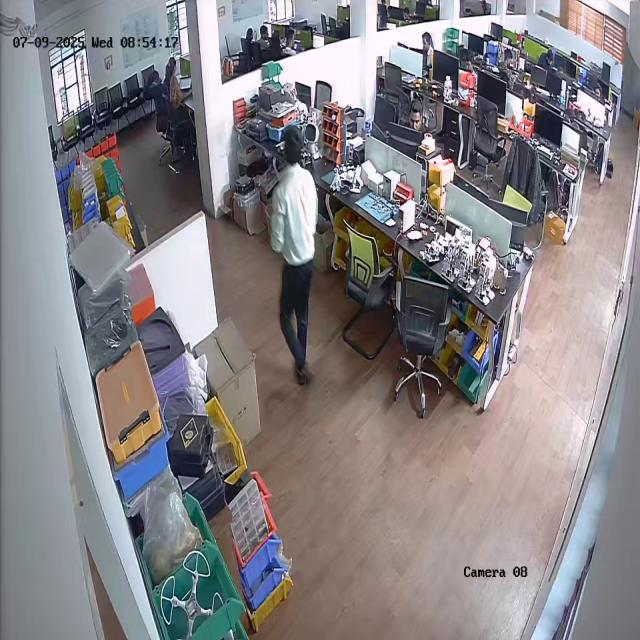person: (262, 125, 324, 388)
